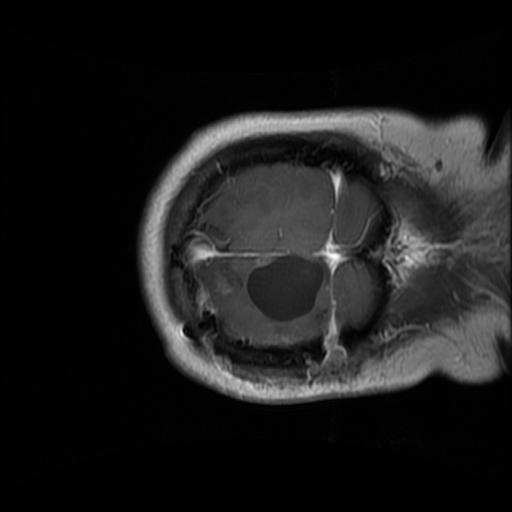glioma: (245, 255, 323, 324)
